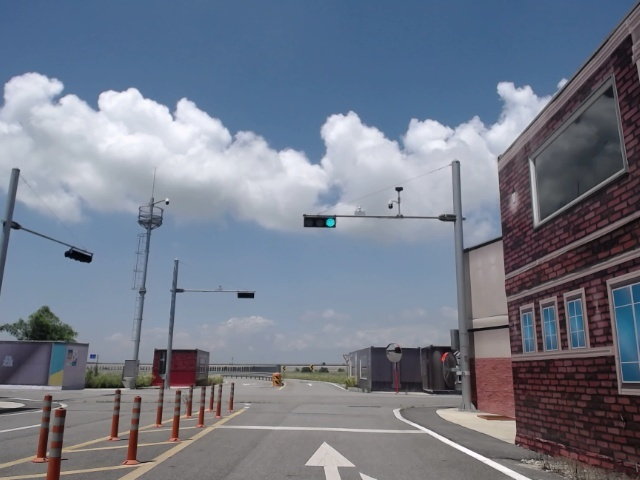green_3: (304, 215, 336, 227)
